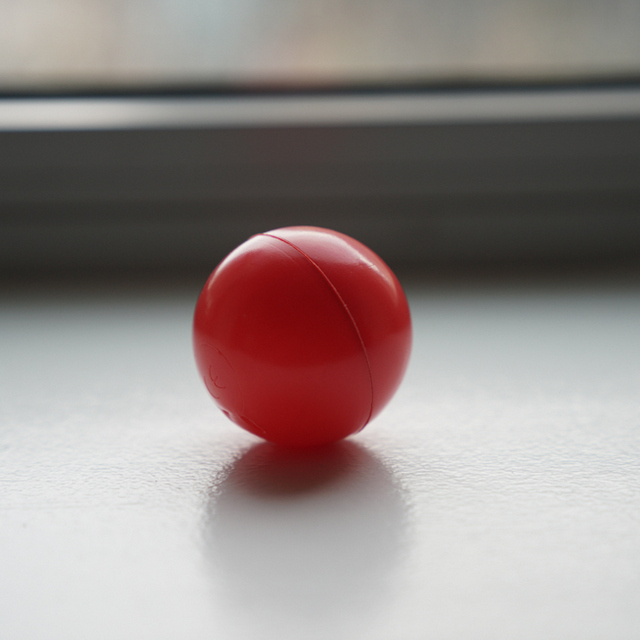Ball: (195, 227, 409, 449)
